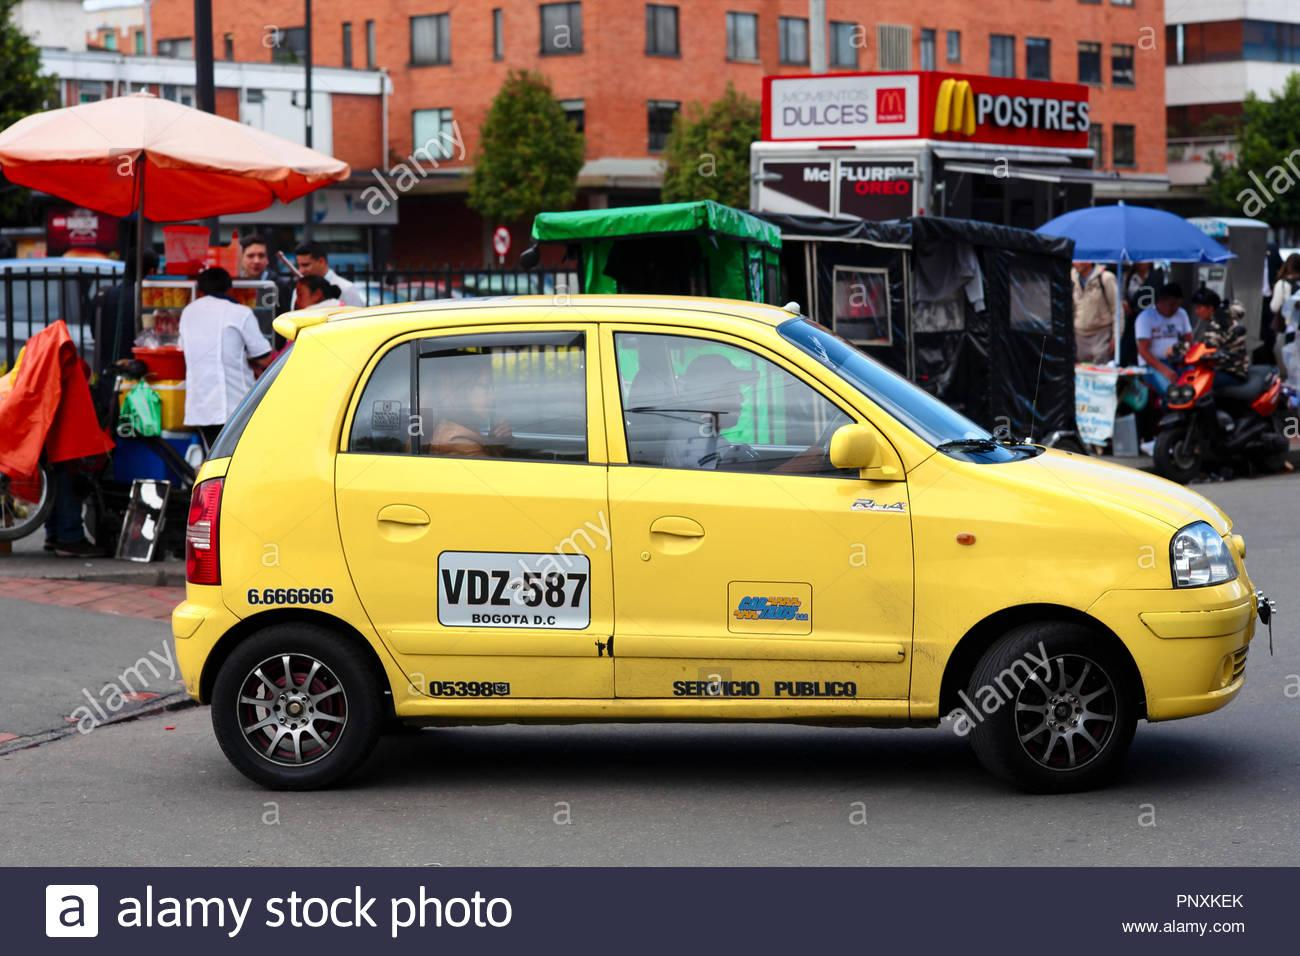taxi: (234, 288, 1283, 804)
